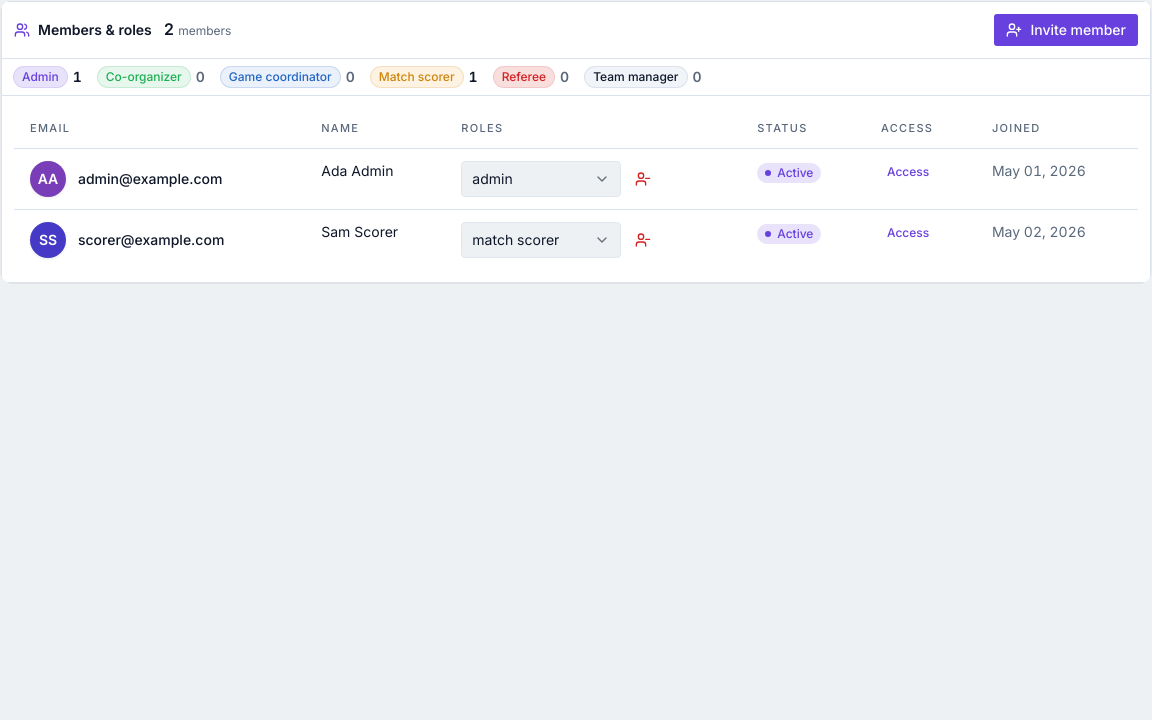
Scenario: TournamentMembersPage › surfaces the last_admin guard as a clear error toast
The width and height of the screenshot is (1152, 720).
Expected: the text "admin@example.com" is shown, top-left (78, 169), bottom-right (222, 189)
// Try to revoke the sole admin → backend rejects with last_admin.
Click the button with test id "revoke-m-admin": (643, 179) top-left (627, 163), bottom-right (659, 195)
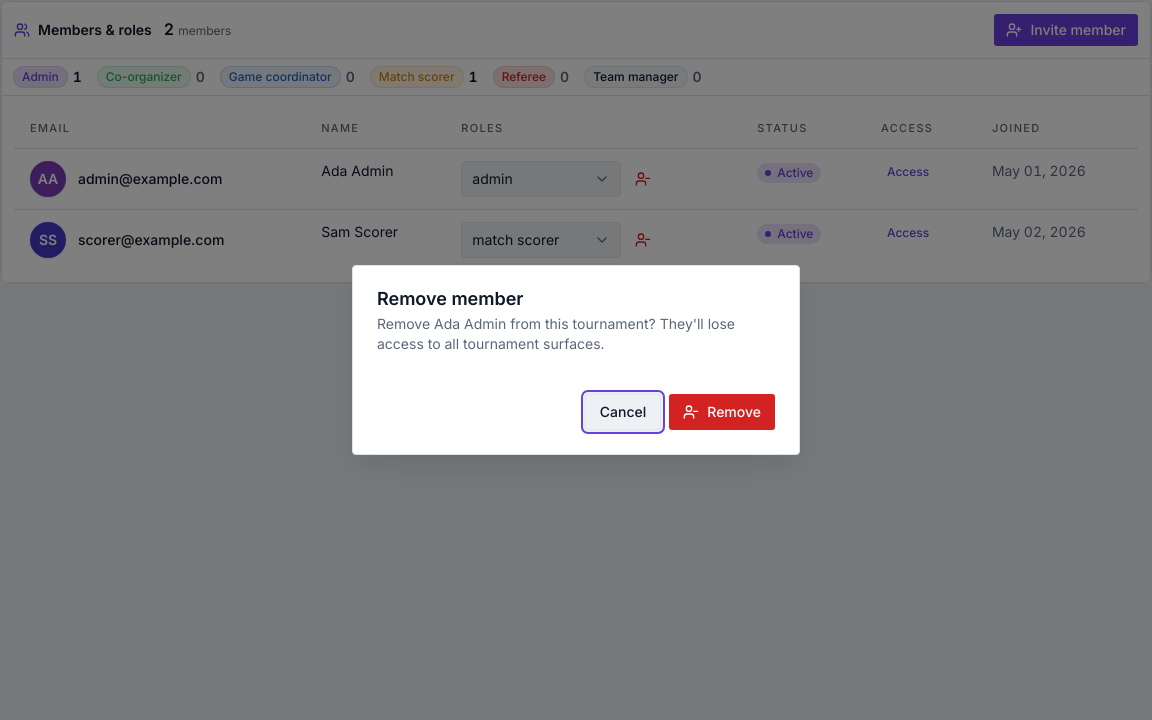
Click the button with test id "confirm-revoke": (722, 412) top-left (669, 394), bottom-right (775, 430)
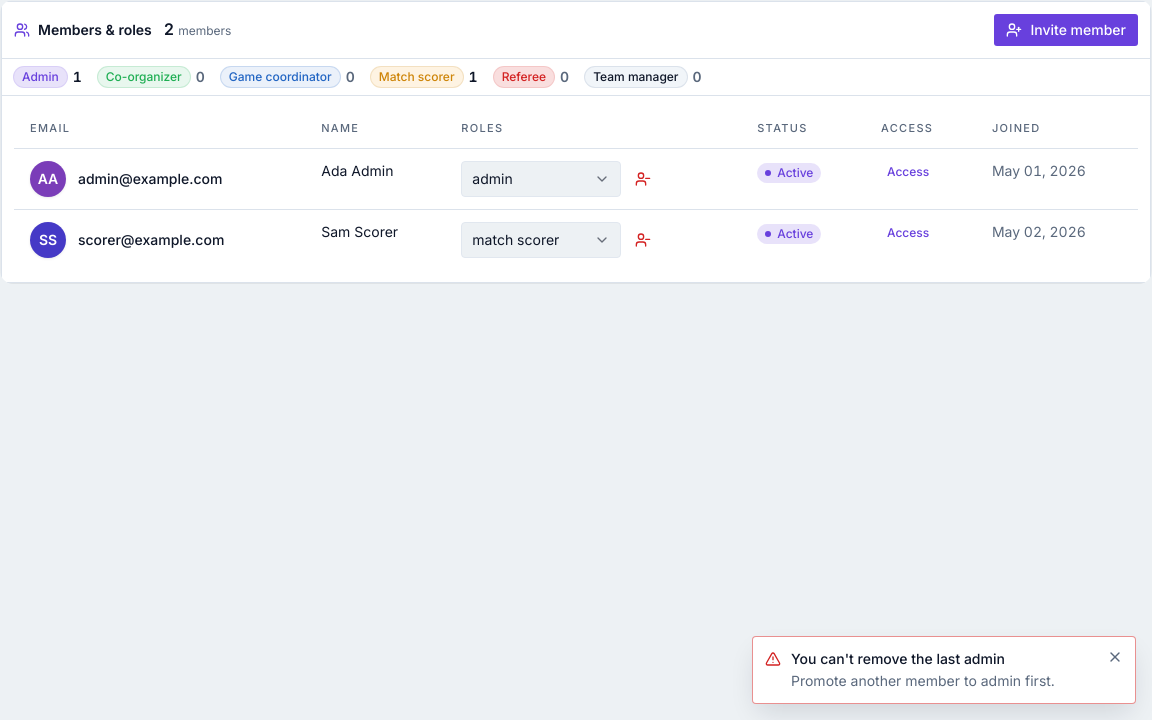
Expected: the text "You can't remove the last admin" is shown, top-left (791, 650), bottom-right (1005, 667)
